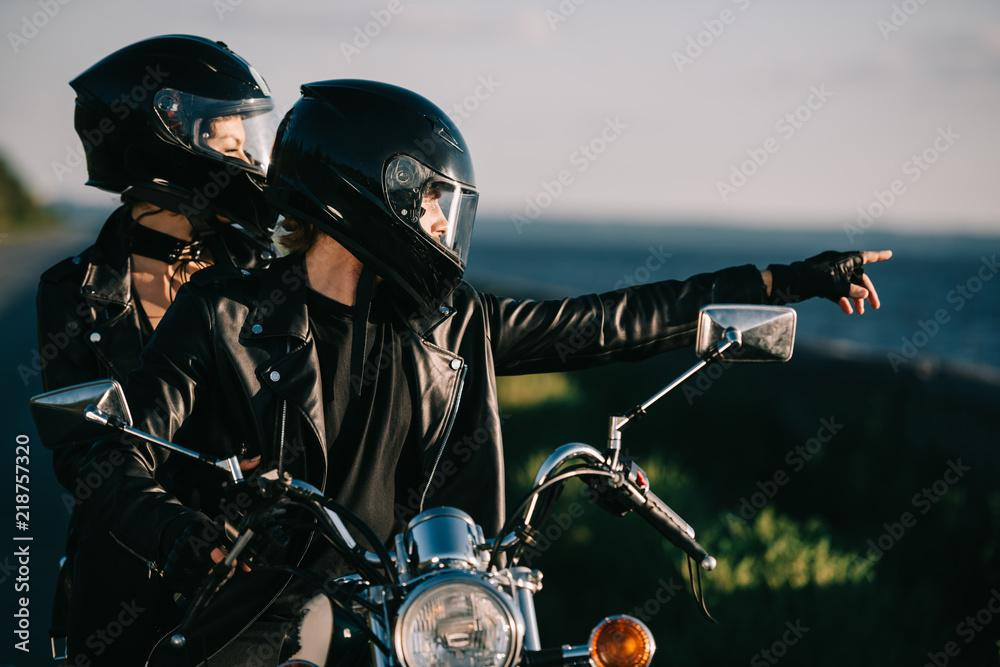helmet: (260, 77, 481, 320), (68, 33, 285, 245)
